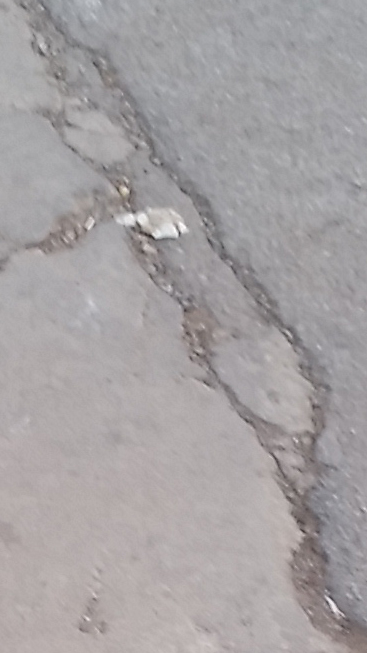A: (8, 12, 361, 646)
